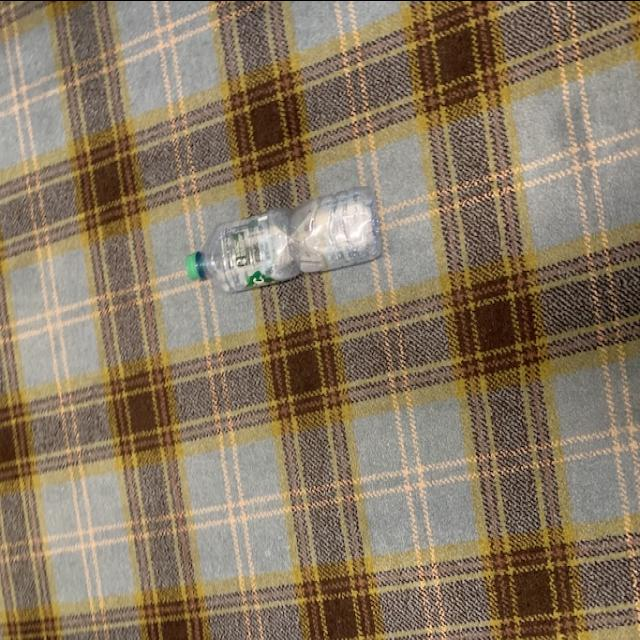litter: (188, 184, 380, 295)
